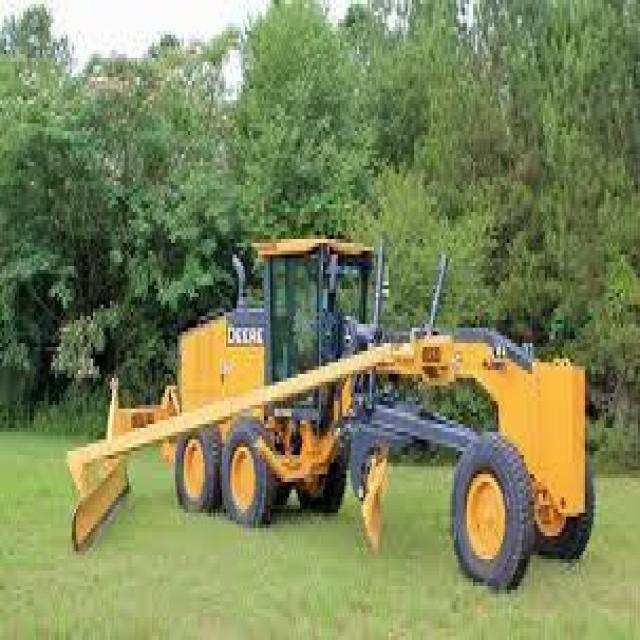buldozerpayloadergrader: (59, 220, 585, 594)
